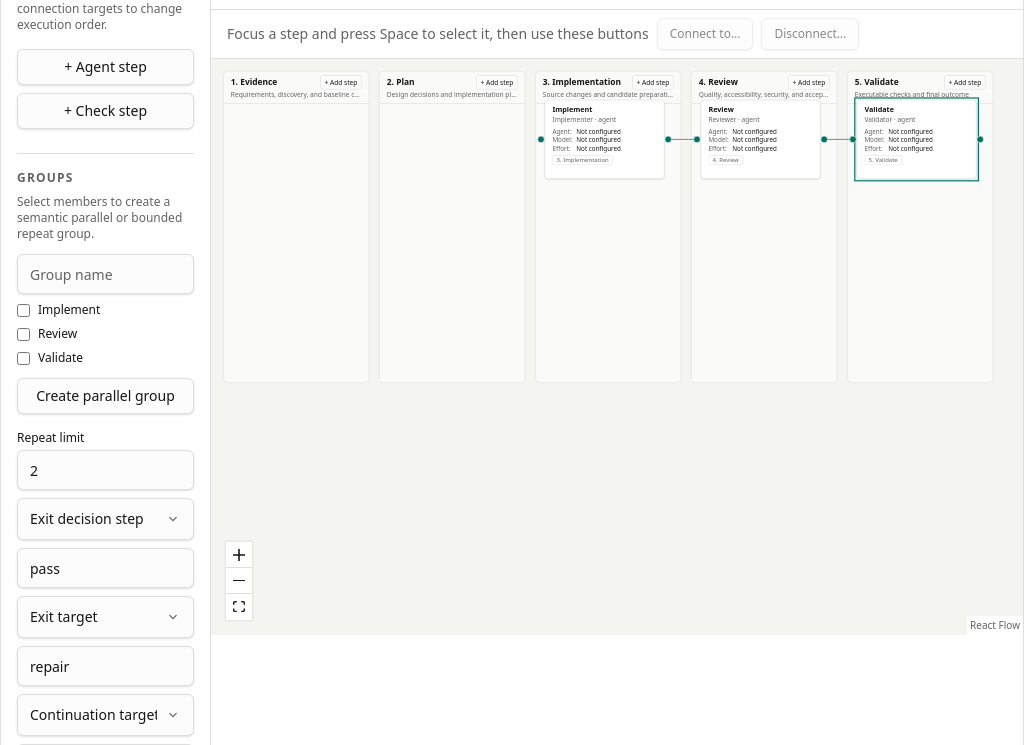
Test case: keyboard linking in the Graph view › says why a connection is refused, in the list, announced and inline, and records nothing
(page scrolled)
Type keys "c"
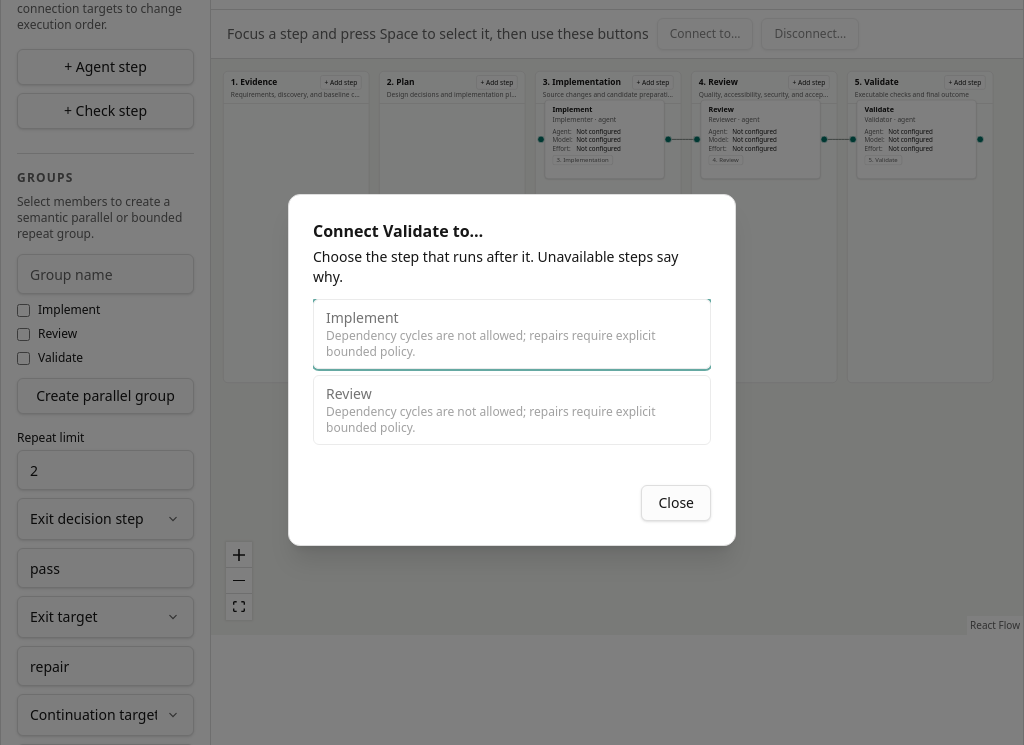
expect the button "Implement" shows "Dependency cycles are not allowed": met
Click the button "Implement".
click(512, 334)  # box [313, 299, 711, 369]
(page scrolled)
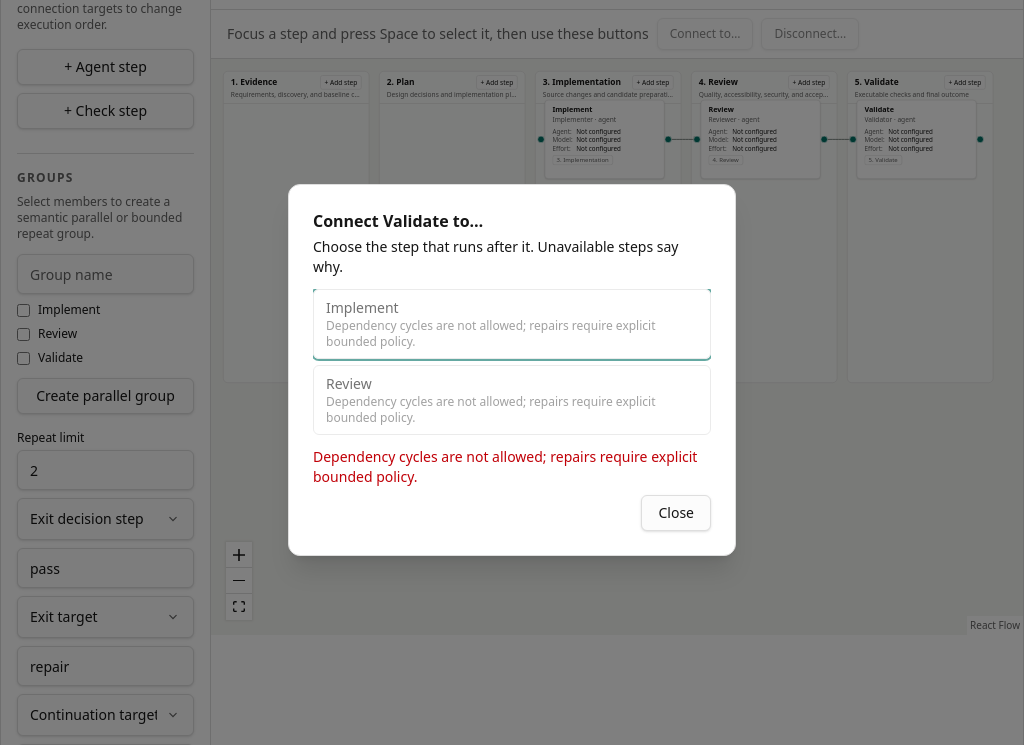
expect the dialog "Connect Validate to…" is shown: met, box [288, 184, 736, 556]
expect the text "Dependency cycles are not allowed" is shown: met, box [313, 447, 697, 486]
